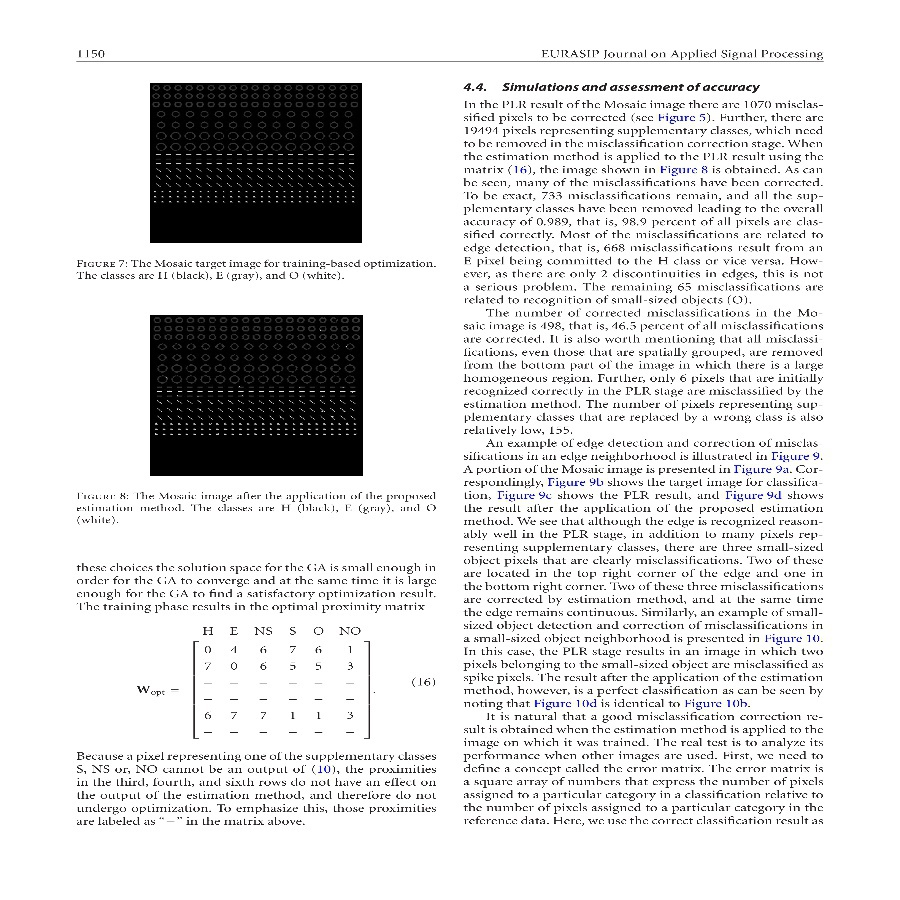eq: (123, 619, 394, 746)
